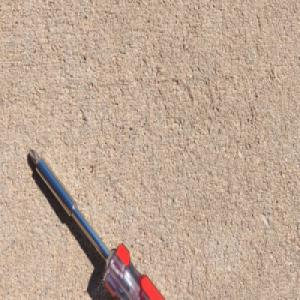Screwdriver: (28, 146, 169, 300)
